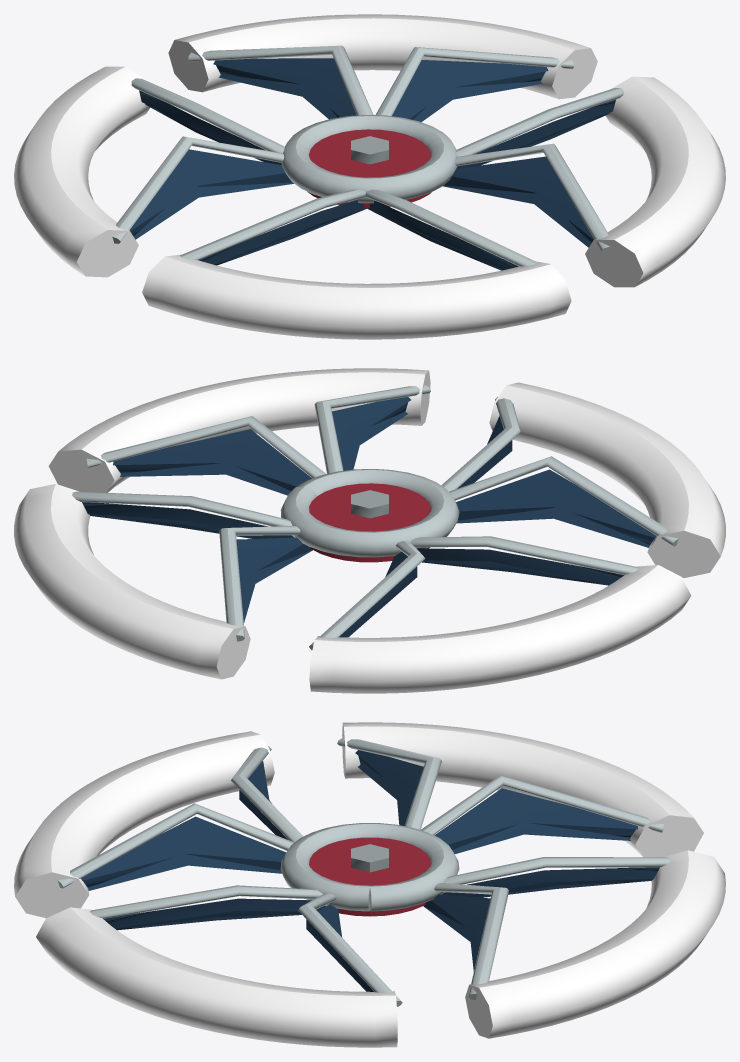
Rendered from Wheel_24_SSR_白銀・三段返し.glb.
3 views of the same model, one above another, from view 1: azimuth 30°, elevation 25°; view 2: azimuth 150°, elevation 25°; view 3: azimuth 270°, elevation 25° (orthographic).
Visible parts, largest first — view 1: Wheel_24_SSR; view 2: Wheel_24_SSR; view 3: Wheel_24_SSR.
Boxes of the visible parts, left/top/right/bottom form: Wheel_24_SSR: left=14, top=14, right=725, bottom=339; Wheel_24_SSR: left=14, top=368, right=725, bottom=693; Wheel_24_SSR: left=14, top=722, right=725, bottom=1047.
Bounding box in the file's own units: 0.326 × 0.039 × 0.326.
4 materials, 4 textured.
